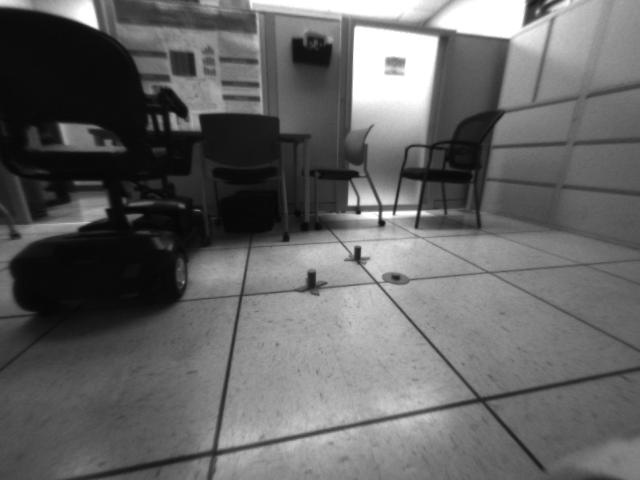X: (294, 267, 325, 295), (345, 243, 372, 266)
